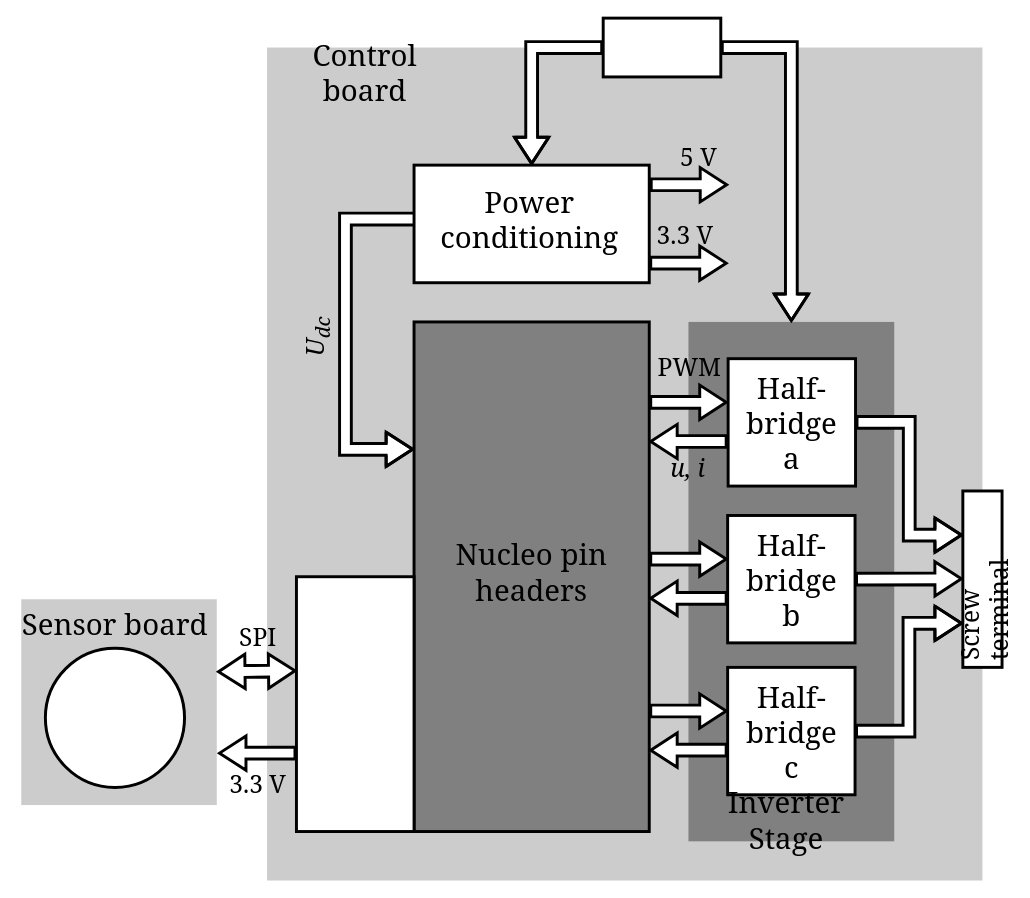
This 1030x898 diagram has some shape labels left out. Here are the shapes that lost their labels. From the top down, the centre of each, then its label:
point 661,47: PWR in
point 114,717: Rotary encoder
point 354,704: Communication
